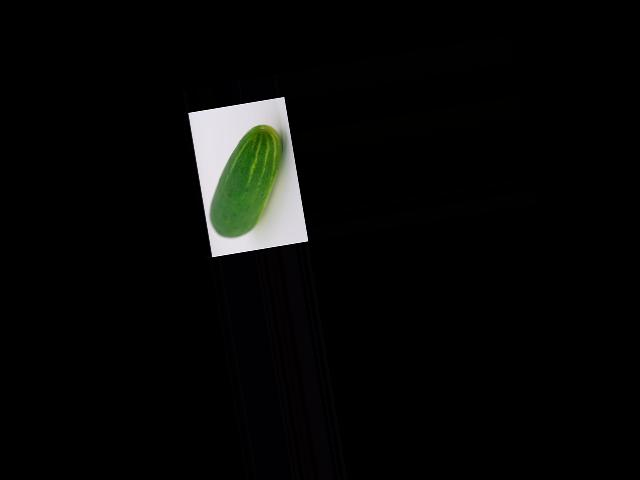cucumber: (196, 122, 295, 241)
